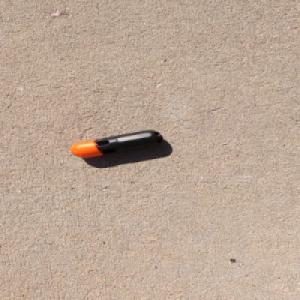PlasticPart: (68, 129, 164, 159)
